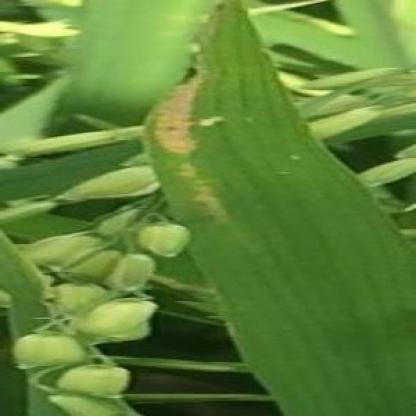Blight: (142, 4, 414, 416)
